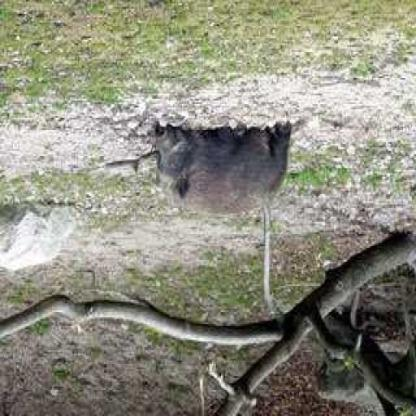boar: (110, 100, 286, 241)
